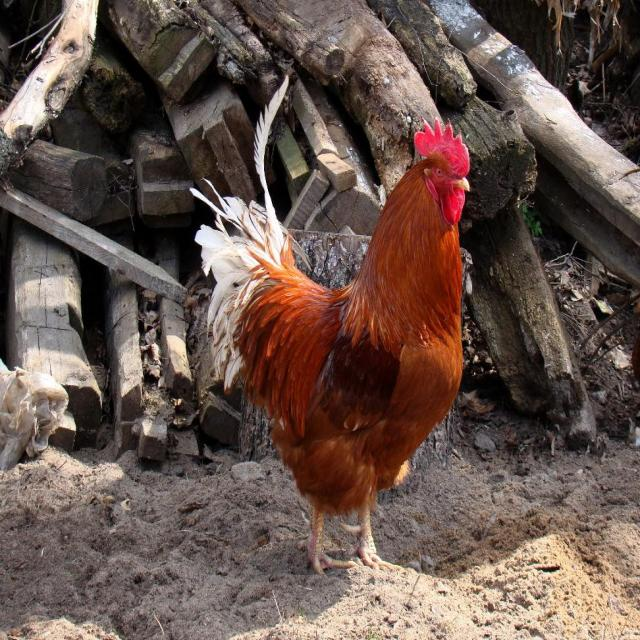Chicken: (189, 74, 470, 578)
